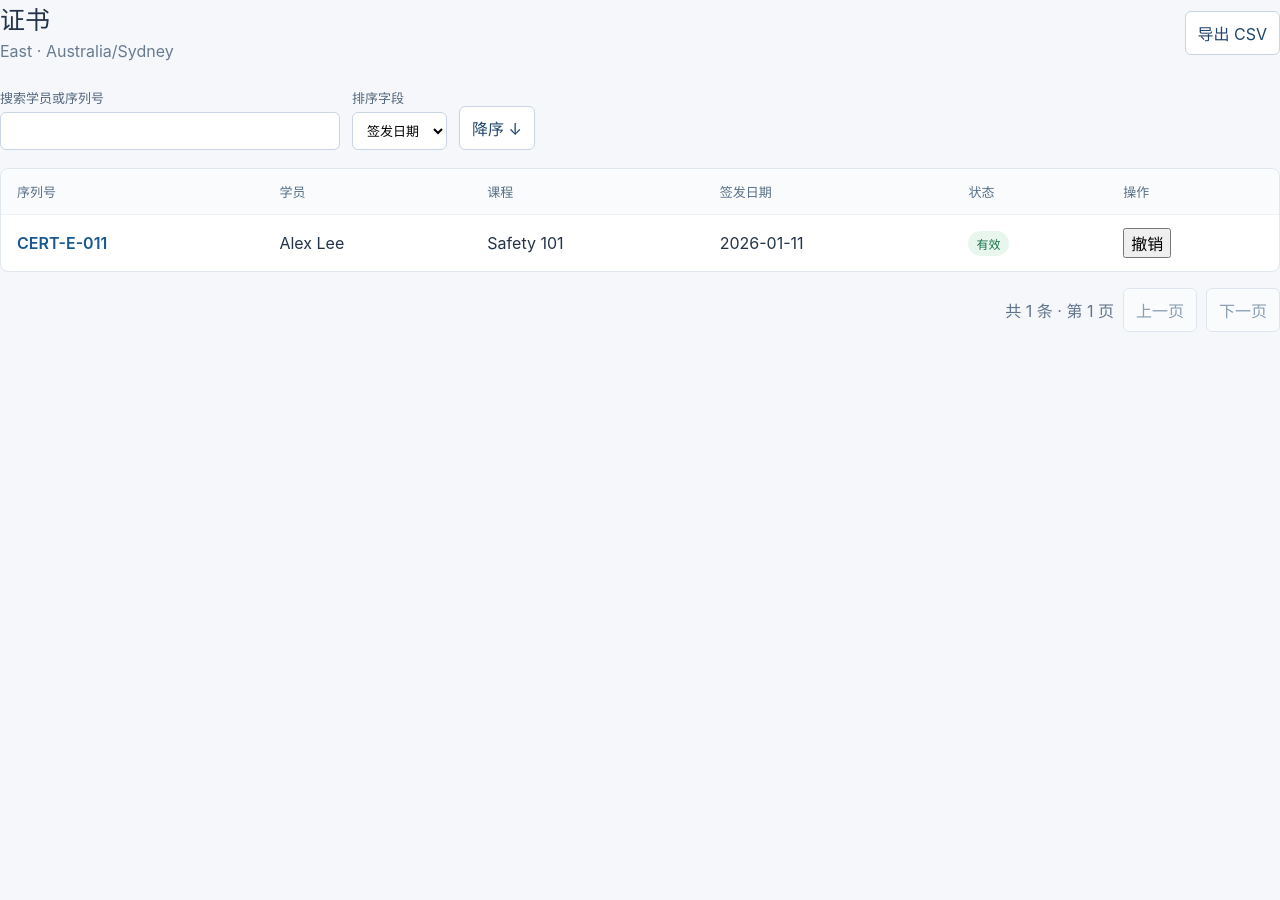
it: returns focus to the revoke button after closing its confirmation
Click the button "CERT-E-011" at coordinates (62, 243), box [17,233,107,253]
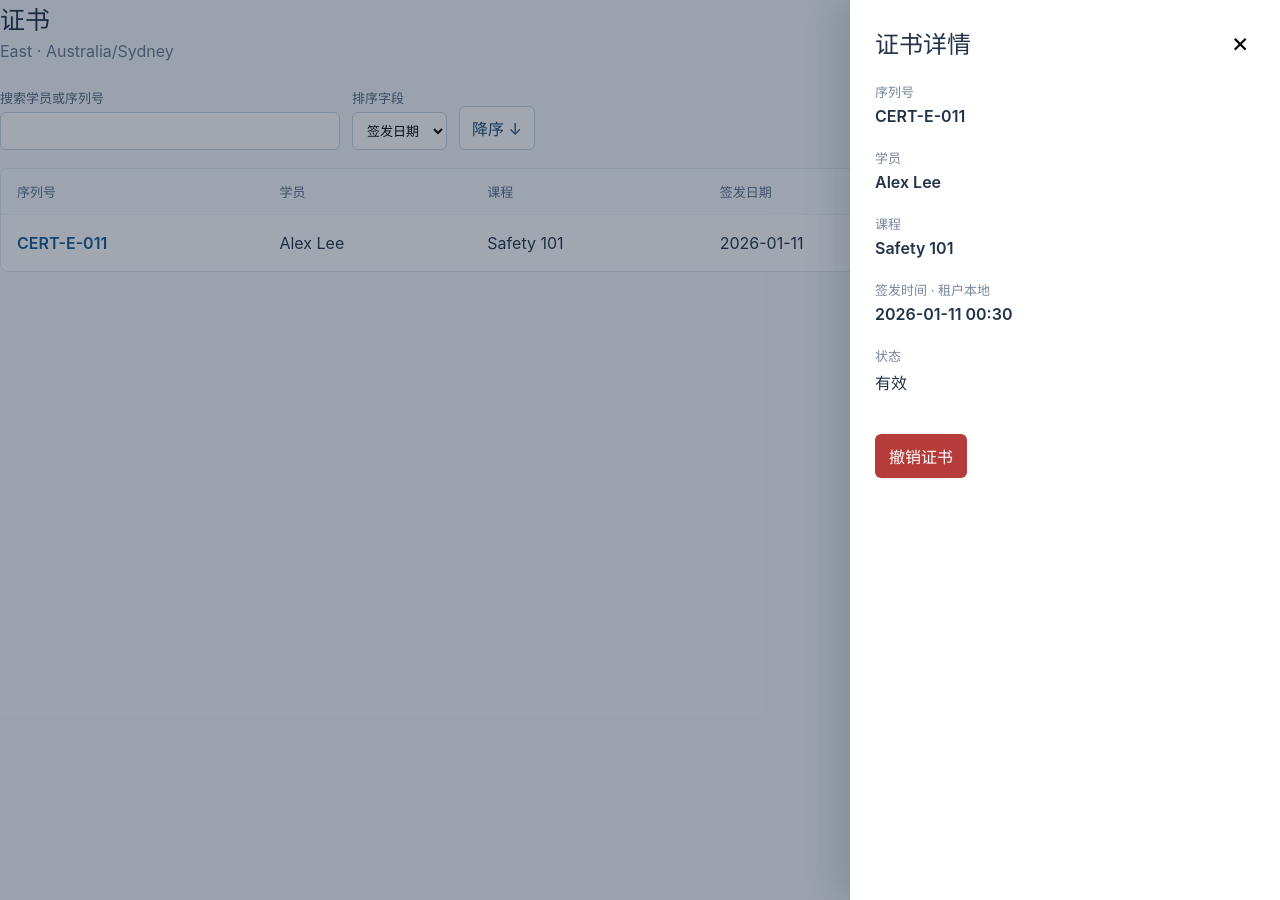
Click the button "撤销证书" at coordinates (921, 456), box [875,434,967,478]
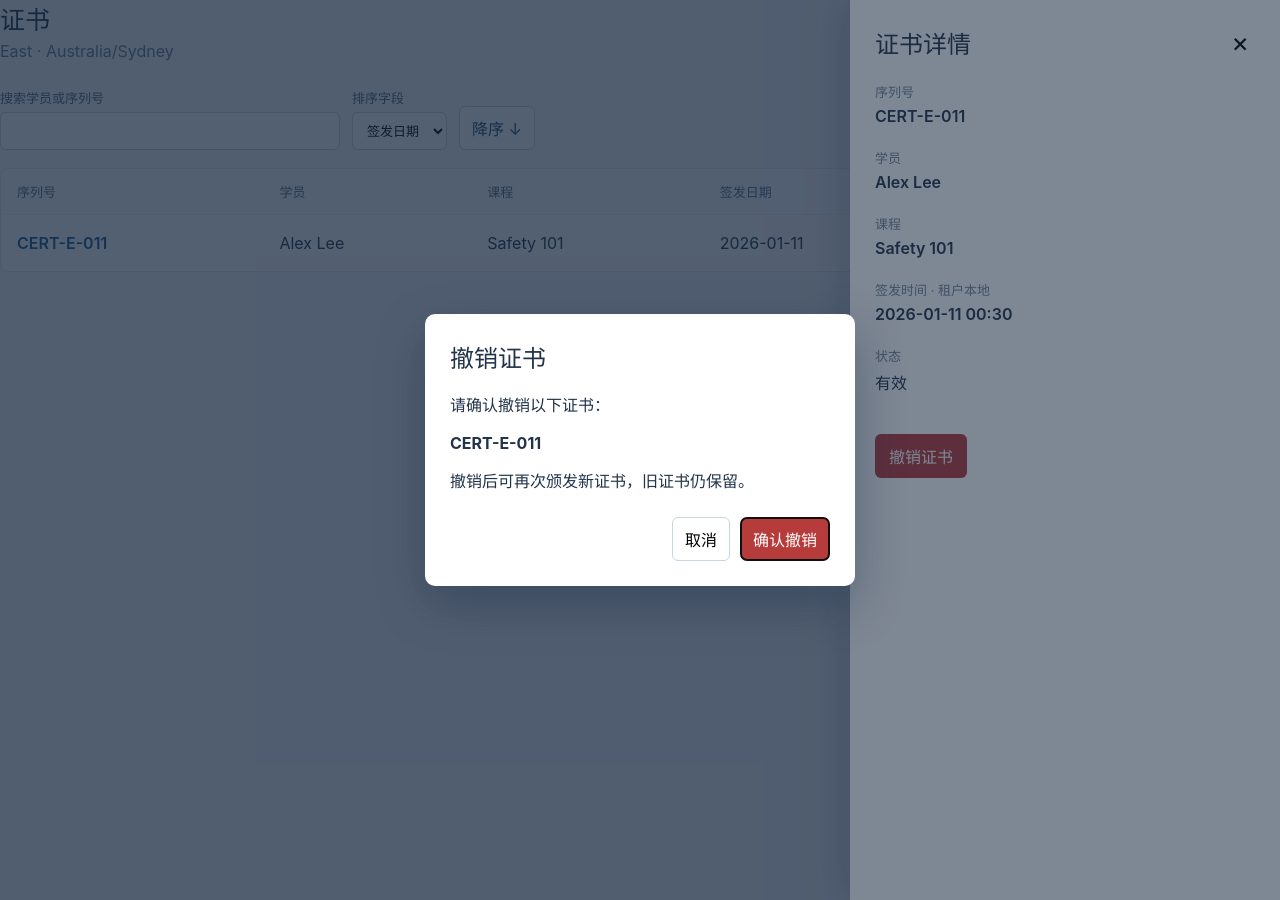
Press Escape
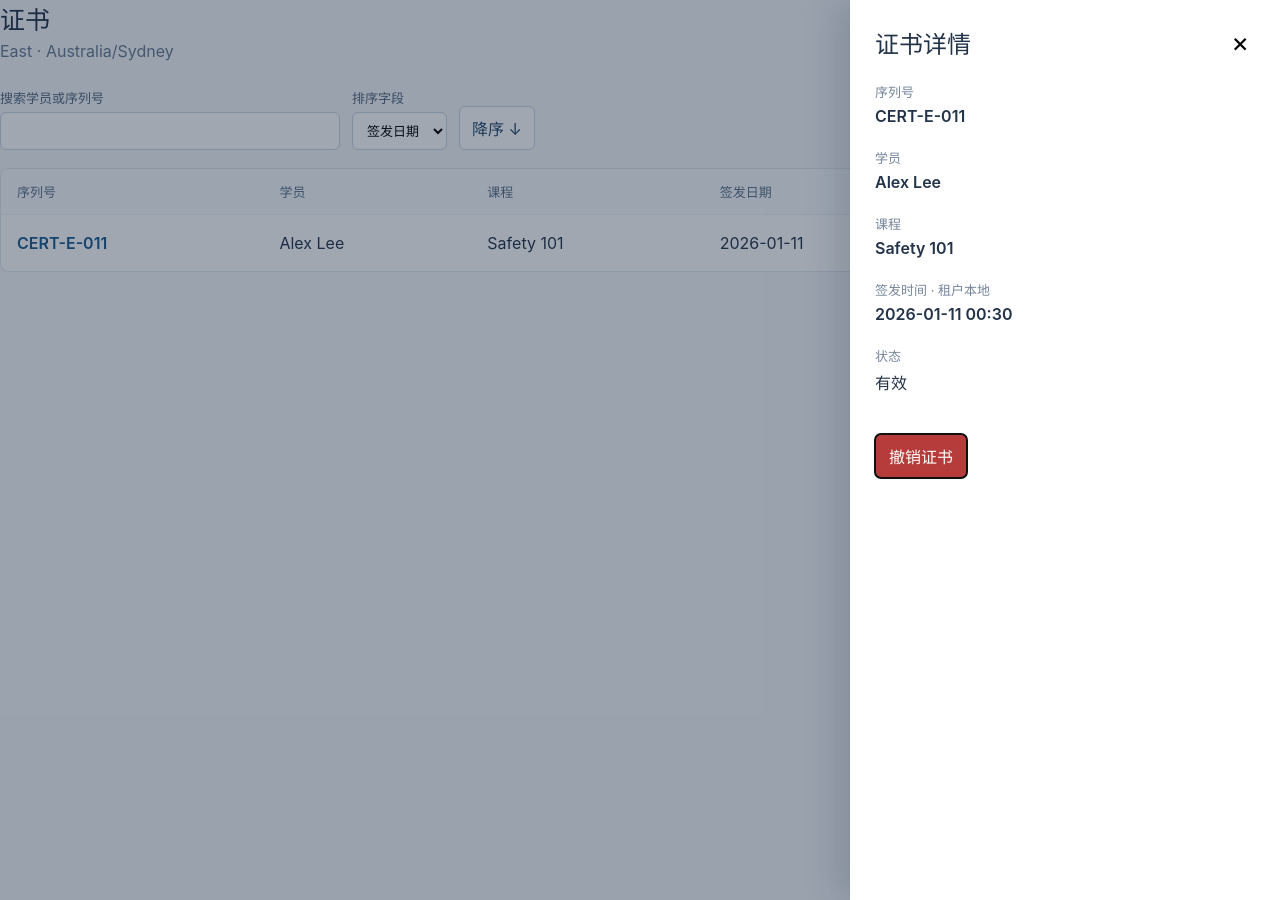
Expected: the dialog is gone
